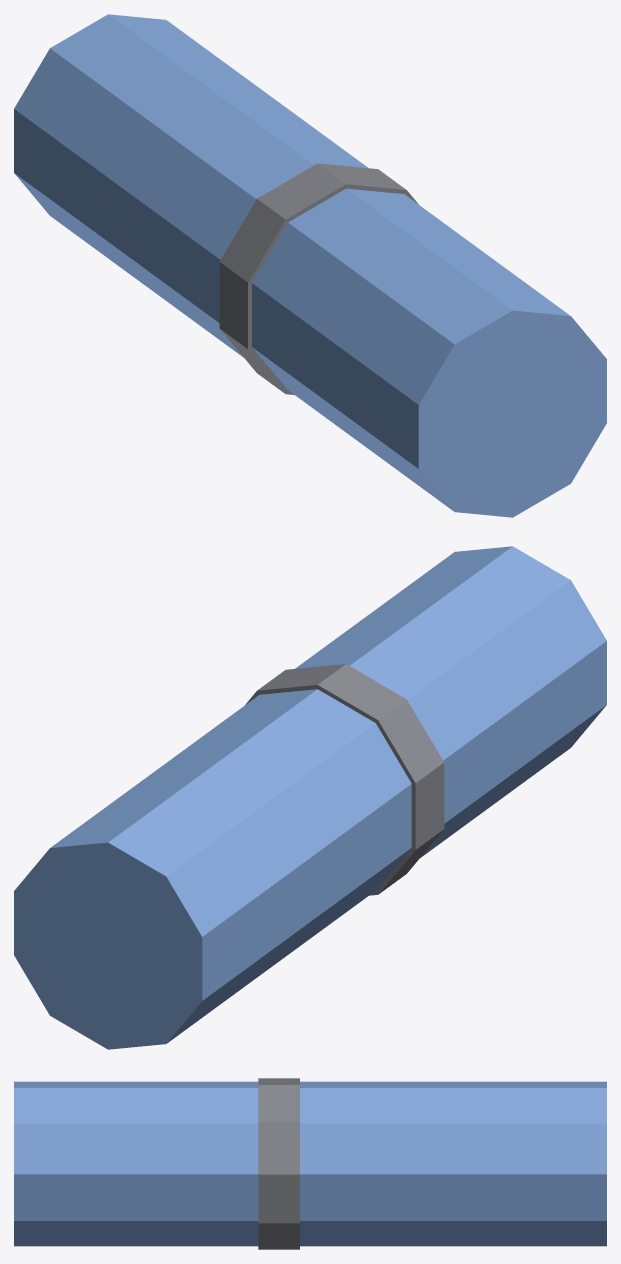
Rendered from empty_held.gltf.
3 views of the same model, one above another, from view 1: azimuth 30°, elevation 25°; view 2: azimuth 150°, elevation 25°; view 3: azimuth 270°, elevation 25° (orthographic). The views are drawn at different scales.
Parts seen in each view (by area): view 1: blueprints_empty_held; view 2: blueprints_empty_held; view 3: blueprints_empty_held.
Boxes of the visible parts, <box> form: blueprints_empty_held: <box>14,14,606,517</box>; blueprints_empty_held: <box>14,546,606,1049</box>; blueprints_empty_held: <box>14,1078,606,1249</box>.
Bounding box in the file's own units: 0.0476 × 0.05 × 0.17.
